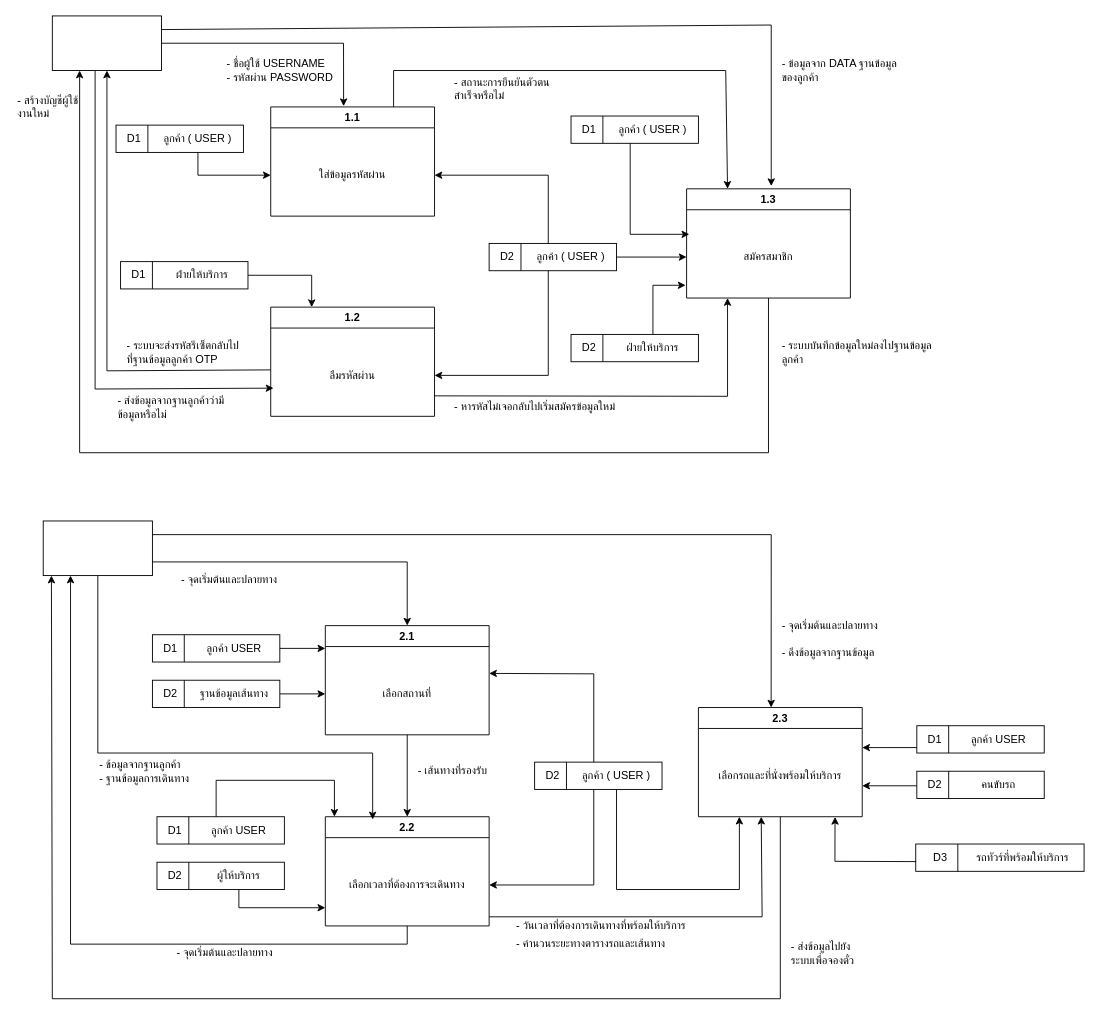
Some shapes in this 1100 by 1022 pixel diagram are drawn without their labels. The shapes that lost their labels are listed below. From the top down, each one's centre as x and y in pixels, then its label:
[106,43]: 1. Login User
[97,548]: 2. ระบบจองตั๋ว
